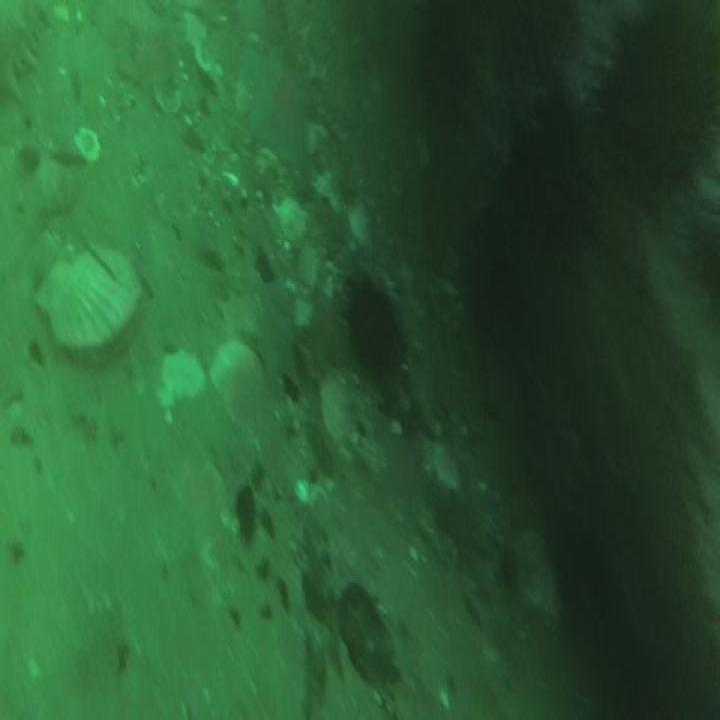echinus: (596, 34, 707, 213), (516, 121, 595, 251), (467, 230, 528, 348), (347, 281, 404, 371)
scallop: (34, 242, 144, 350), (211, 341, 265, 416)
